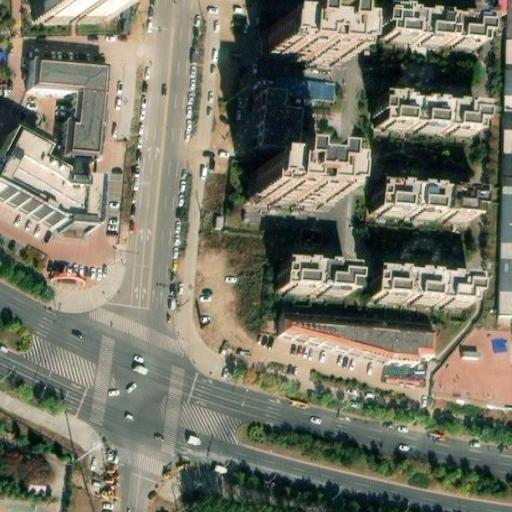building: (0, 137, 97, 235), (32, 58, 112, 152), (281, 315, 435, 362), (265, 78, 333, 150), (379, 100, 486, 136), (371, 274, 479, 309), (252, 164, 336, 207), (382, 14, 488, 48), (266, 22, 348, 65), (374, 188, 479, 221), (280, 264, 358, 297), (495, 175, 512, 308), (501, 0, 512, 175), (31, 0, 110, 23)
